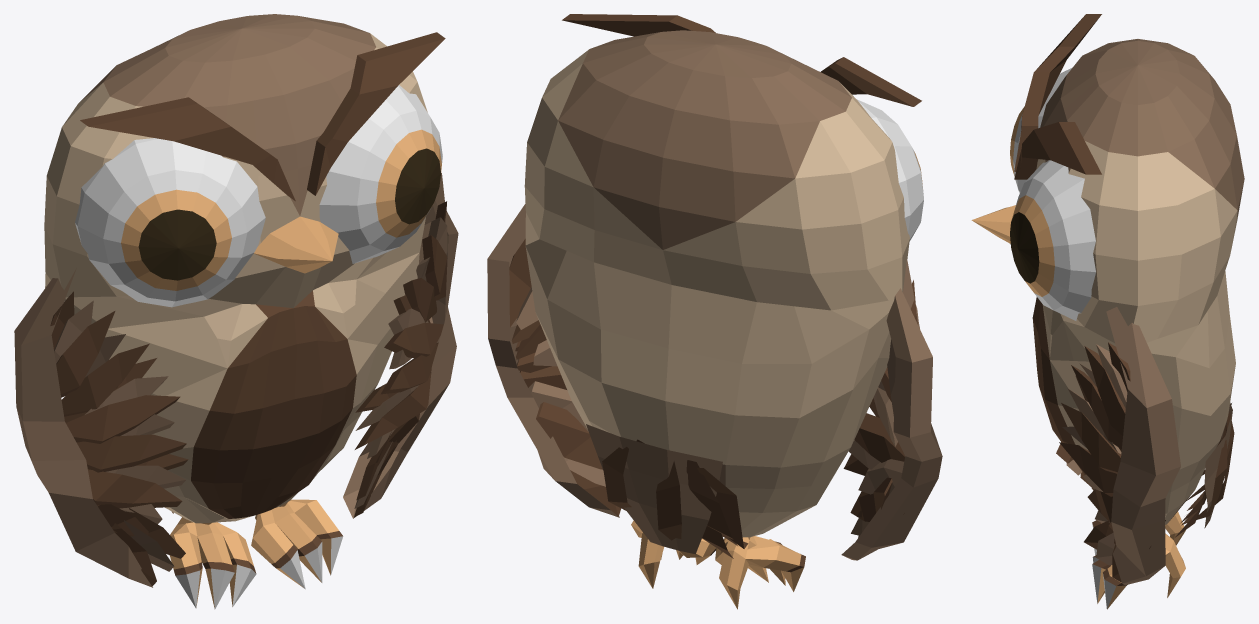
The model's file is Owl.fbx.
3 renders of one model, left to right at view 1: azimuth 30°, elevation 25°; view 2: azimuth 150°, elevation 25°; view 3: azimuth 270°, elevation 25°, orthographic. The views are drawn at different scales.
Parts seen in each view (by area): view 1: STOMACH, Sphere.000, STOMACH.001, STOMACH.013, Cube, Cube.001, Cylinder.001, Cylinder.000; view 2: STOMACH, STOMACH.001, STOMACH.013, STOMACH.002, STOMACH.008, Cylinder.000, Sphere.000, Cube.001, Cube, Cylinder.001; view 3: STOMACH, STOMACH.013, Sphere.000, Cube.001, Cube, Cylinder.001, STOMACH.008, STOMACH.002, Cylinder.000.
Part boxes in pixels (bbox=[...]): STOMACH: bbox=[44, 14, 427, 523]; Sphere.000: bbox=[75, 85, 442, 307]; STOMACH.001: bbox=[14, 268, 188, 587]; STOMACH.013: bbox=[343, 173, 458, 518]; Cube: bbox=[80, 97, 295, 201]; Cube.001: bbox=[307, 32, 445, 195]; Cylinder.001: bbox=[251, 497, 343, 589]; Cylinder.000: bbox=[169, 517, 256, 609]; STOMACH: bbox=[524, 30, 909, 537]; STOMACH.001: bbox=[841, 259, 942, 560]; STOMACH.013: bbox=[487, 203, 621, 517]; STOMACH.002: bbox=[586, 424, 722, 554]; STOMACH.008: bbox=[602, 439, 748, 558]; Cylinder.000: bbox=[715, 536, 805, 609]; Sphere.000: bbox=[856, 99, 923, 240]; Cube.001: bbox=[562, 14, 715, 36]; Cube: bbox=[821, 57, 921, 106]; Cylinder.001: bbox=[631, 520, 716, 588]; STOMACH: bbox=[971, 39, 1244, 524]; STOMACH.013: bbox=[1059, 307, 1180, 585]; Sphere.000: bbox=[1010, 68, 1095, 320]; Cube.001: bbox=[1014, 122, 1101, 179]; Cube: bbox=[1014, 14, 1101, 171]; Cylinder.001: bbox=[1092, 533, 1185, 609]; STOMACH.008: bbox=[1175, 403, 1234, 537]; STOMACH.002: bbox=[1204, 402, 1232, 528]; Cylinder.000: bbox=[1092, 511, 1185, 555].
Size of the model in its own units: 701 by 840 by 405.
